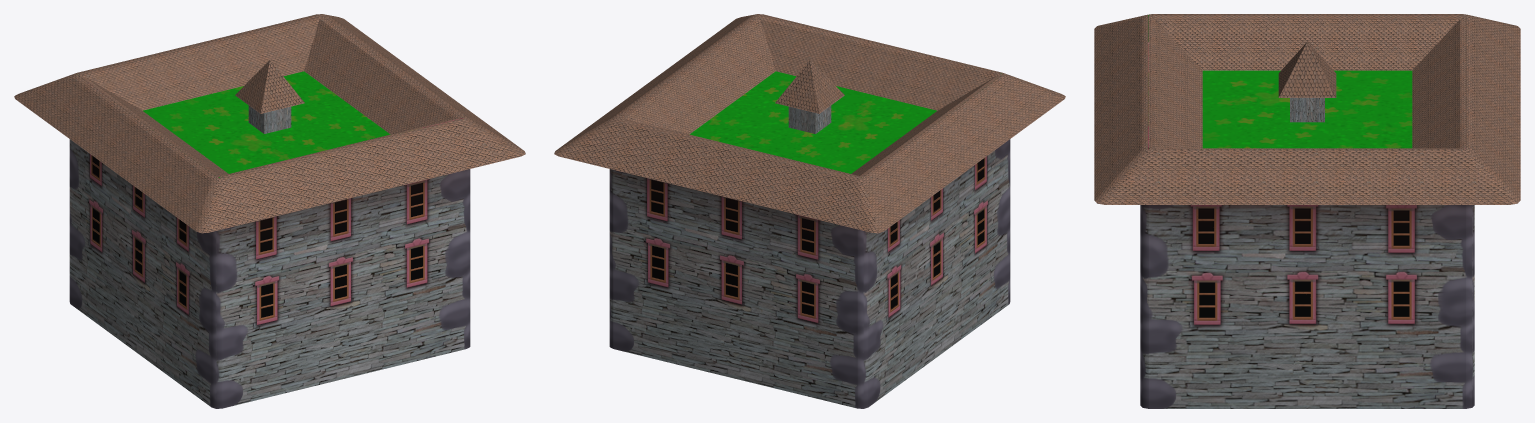
3 views of the same model, side by side, from view 1: azimuth 30°, elevation 25°; view 2: azimuth 150°, elevation 25°; view 3: azimuth 270°, elevation 25° (orthographic). The views are drawn at different scales.
Parts seen in each view (by area): view 1: Cube; view 2: Cube; view 3: Cube.
Part boxes in pixels (box(x1,y1,x2,y2)): Cube: box(14, 14, 525, 408); Cube: box(554, 14, 1065, 408); Cube: box(1094, 14, 1520, 408).
Bounding box in the file's own units: 2.55 × 1.96 × 2.55.
Materials: 1 (1 with a texture image).
